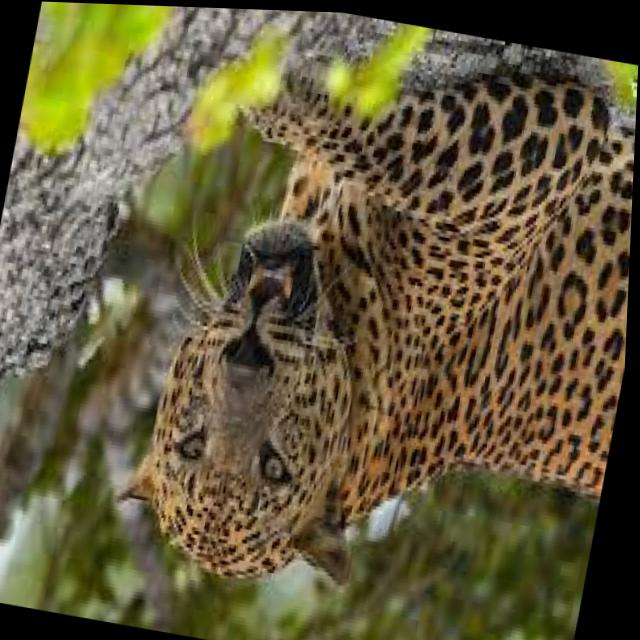dog: (99, 5, 640, 640)
